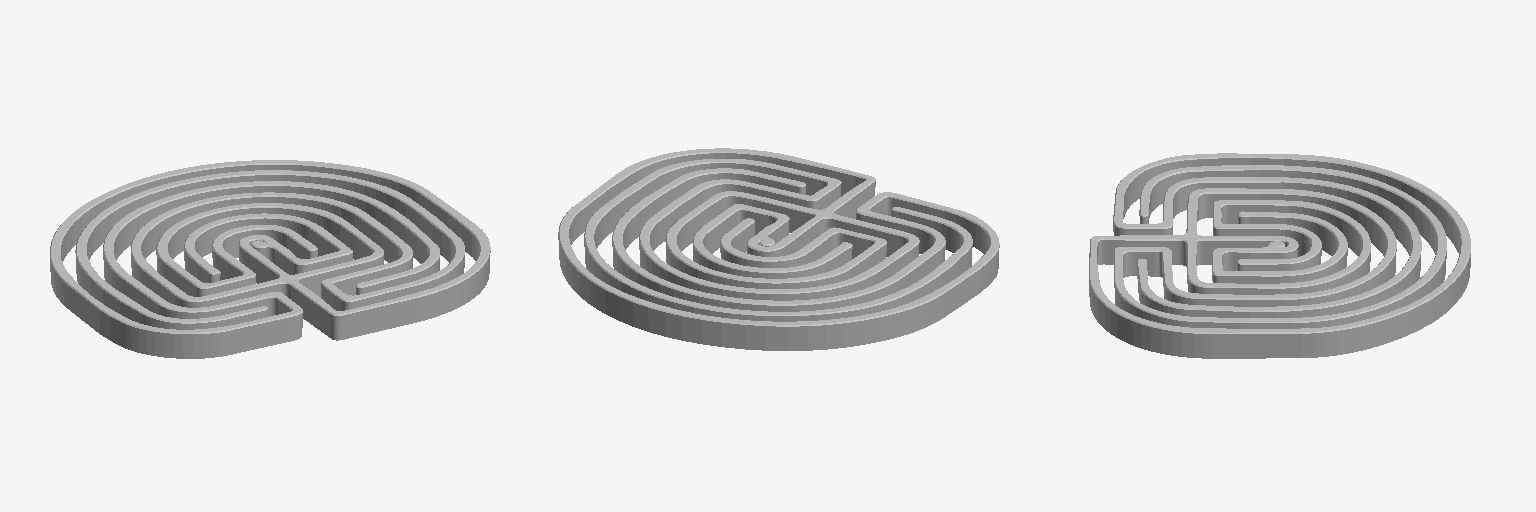
File: Laberinto.obj
3 views of the same model, side by side, from view 1: azimuth 30°, elevation 25°; view 2: azimuth 150°, elevation 25°; view 3: azimuth 270°, elevation 25° (orthographic).
Visible parts, largest first — view 1: Cretas_Maze; view 2: Cretas_Maze; view 3: Cretas_Maze.
Part boxes in pixels (left/top/right/bottom): Cretas_Maze: left=50, top=160, right=490, bottom=358; Cretas_Maze: left=558, top=148, right=999, bottom=350; Cretas_Maze: left=1089, top=153, right=1470, bottom=358.
Bounding box in the file's own units: 41.98 × 2.85 × 37.65.